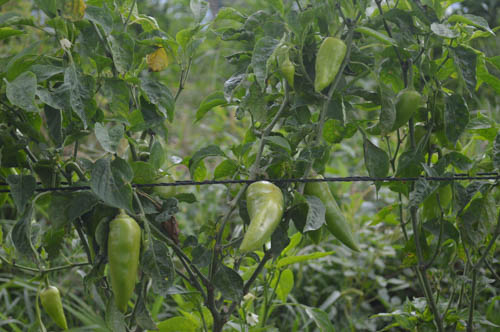ChiliPepper: (308, 176, 360, 250), (105, 218, 143, 312), (242, 181, 282, 258), (369, 93, 421, 141), (313, 38, 347, 94), (37, 290, 71, 328)
